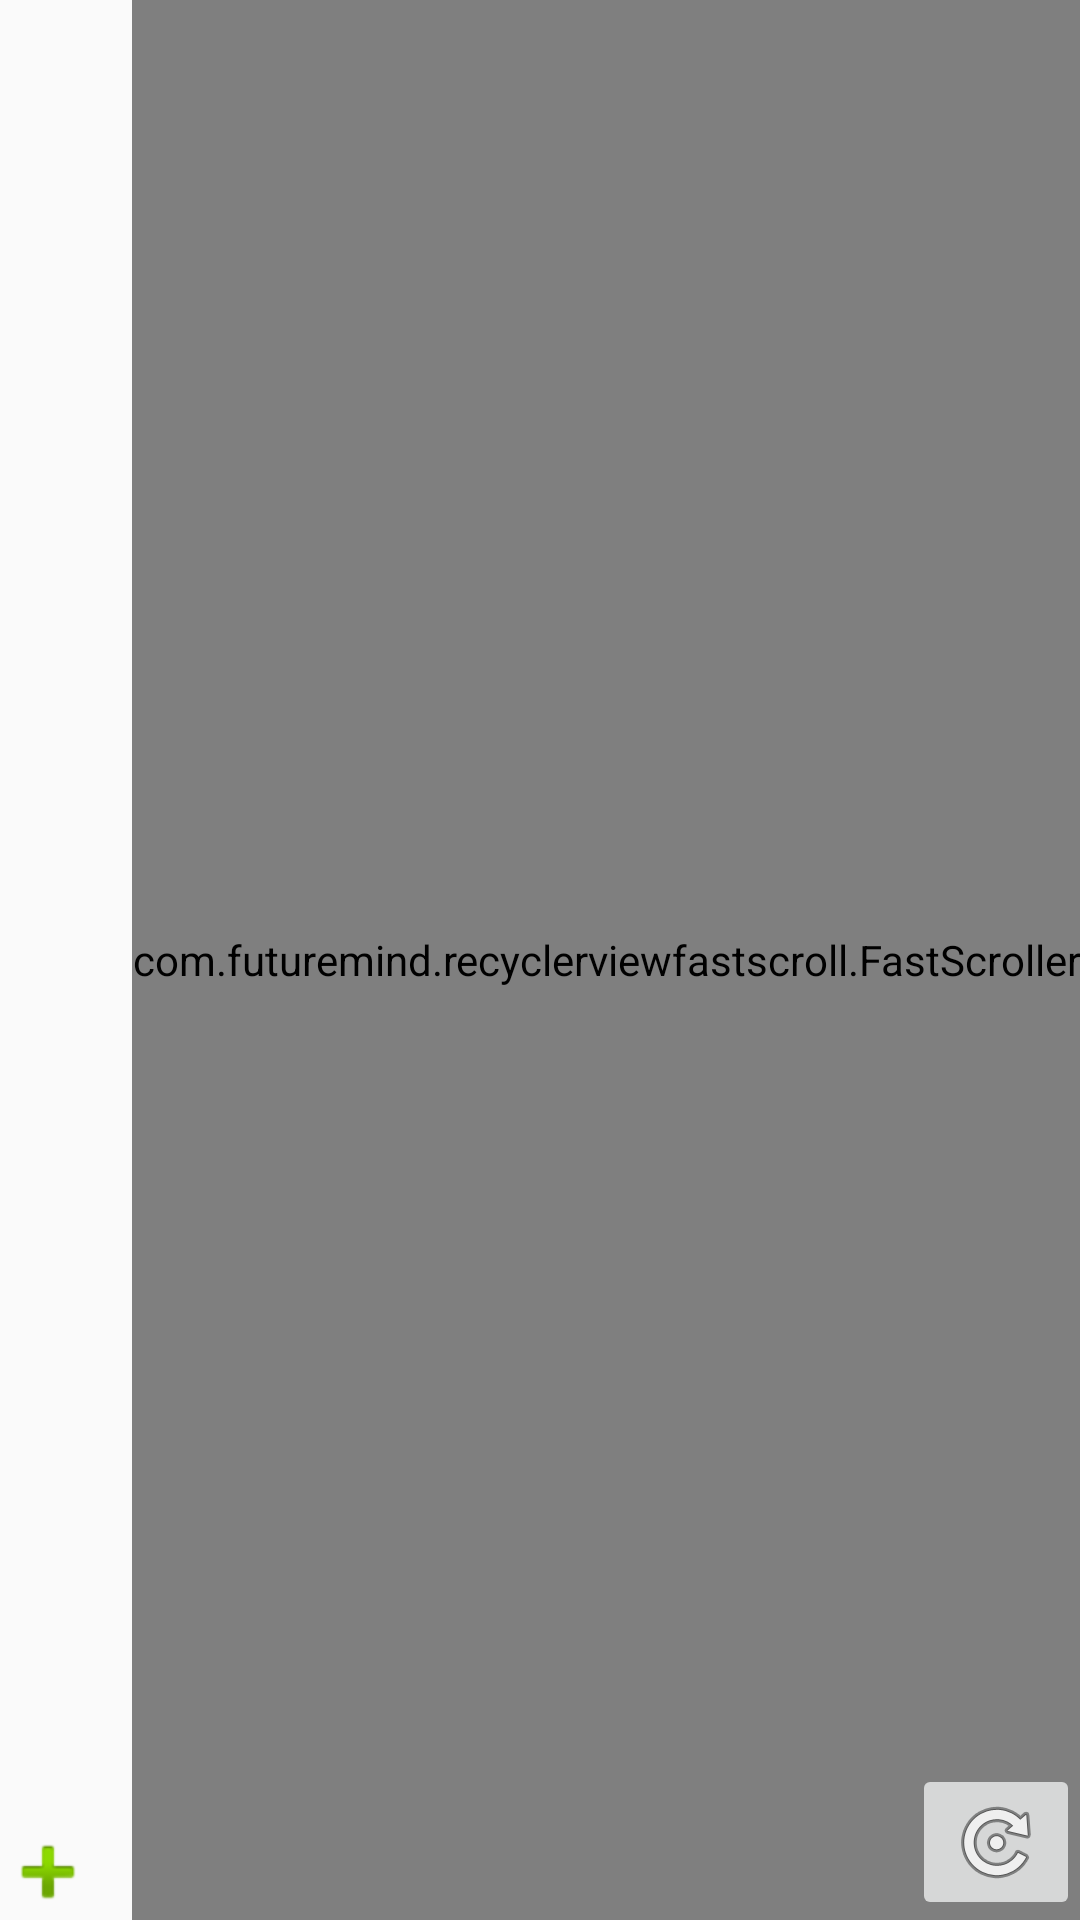

Point at icon controls on the screen. Image size 1080 × 1920, points as point (x, y).
add: point (48, 1872)
rotate: point (996, 1842)
